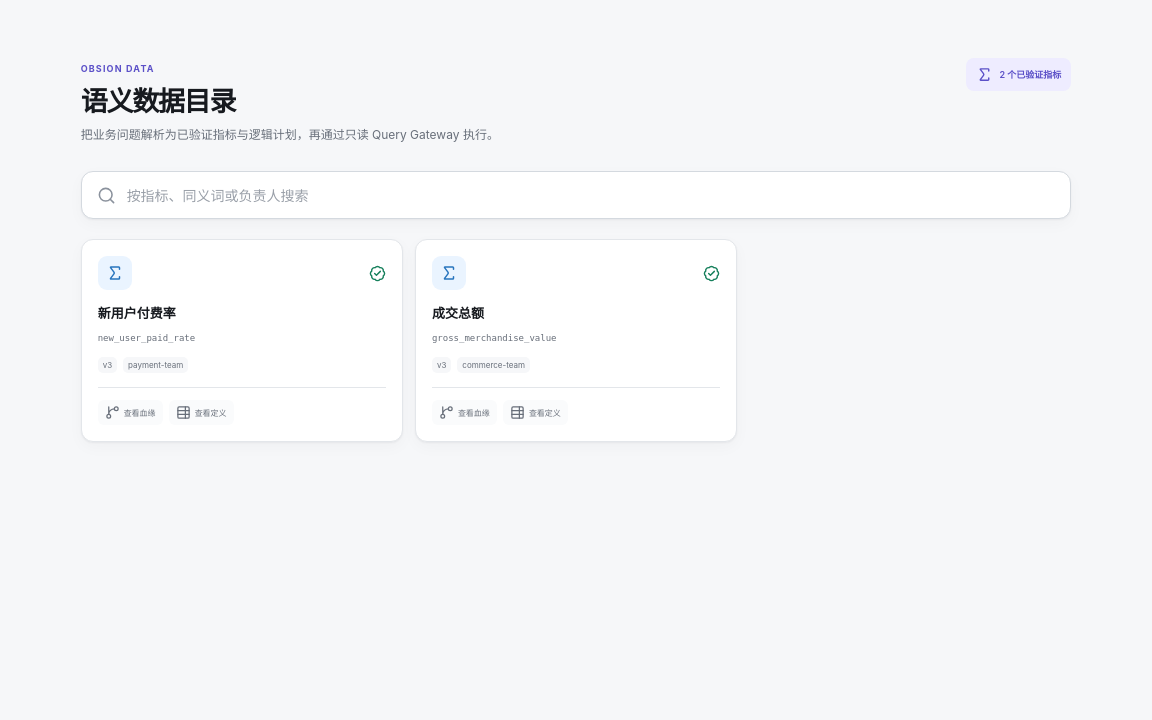
Test: DataView interactions › ignores a slower stale lineage response after switching metrics
The width and height of the screenshot is (1152, 720).
expect the heading "新用户付费率" is shown: met, box [98,305,176,321]
Click the button "查看血缘" below "payment-team" at (130,413), box [98,400,163,425]
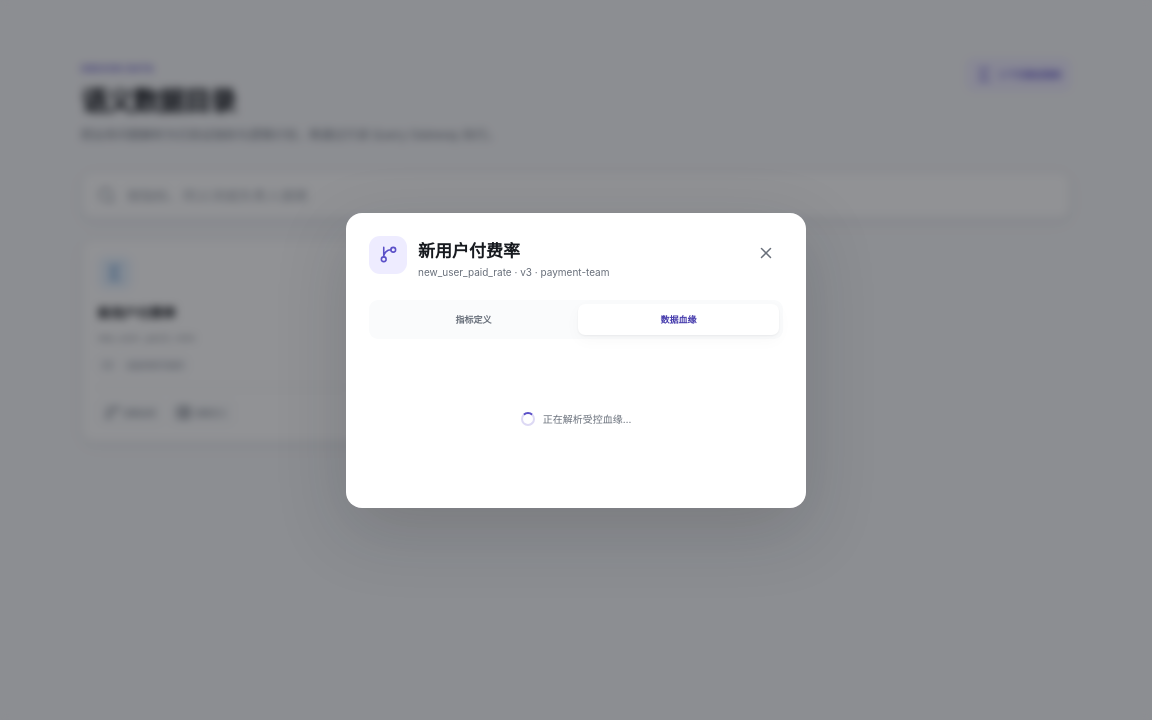
Click the button named "关闭指标详情" at (766,252), box [749,236,783,270]
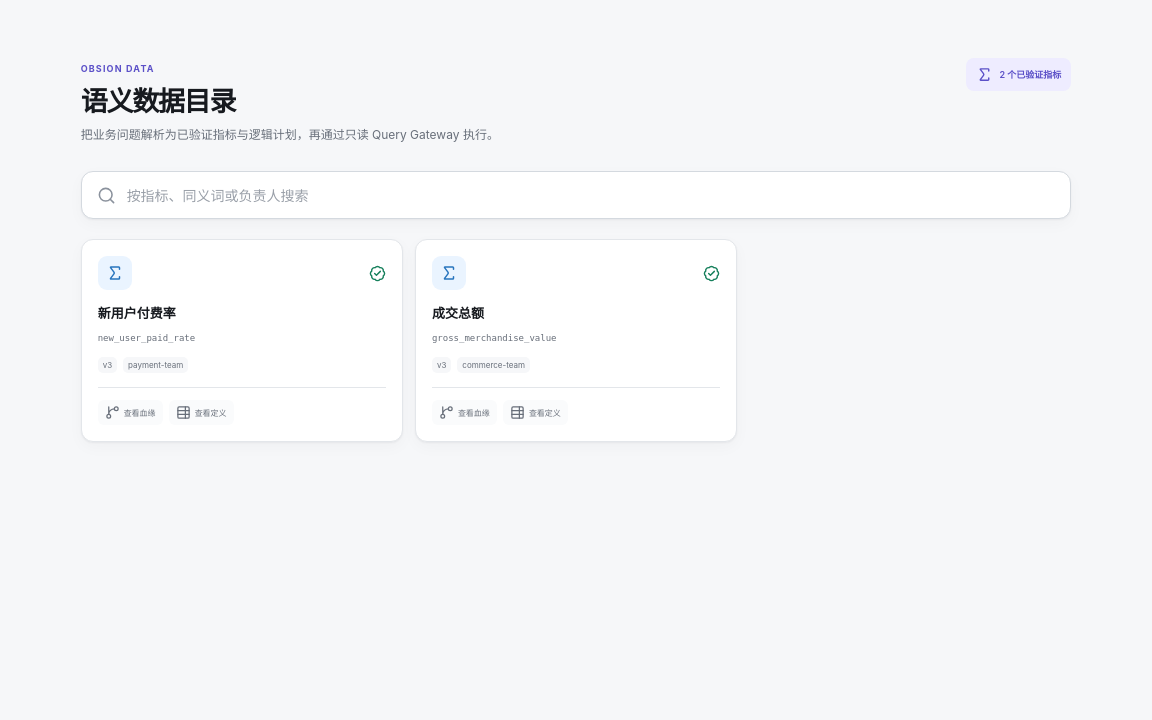
Click the button "查看血缘" below "commerce-team" at (464,413), box [432,400,497,425]
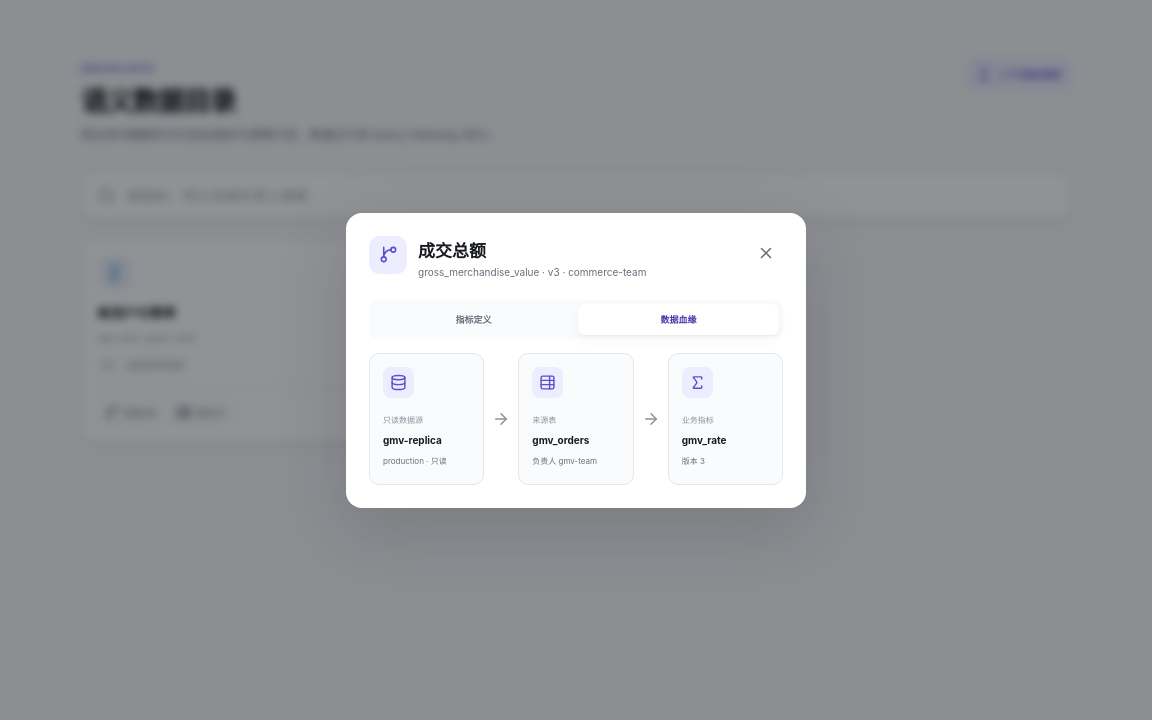
expect the text "gmv-replica" is shown: met, box [383,434,442,450]
